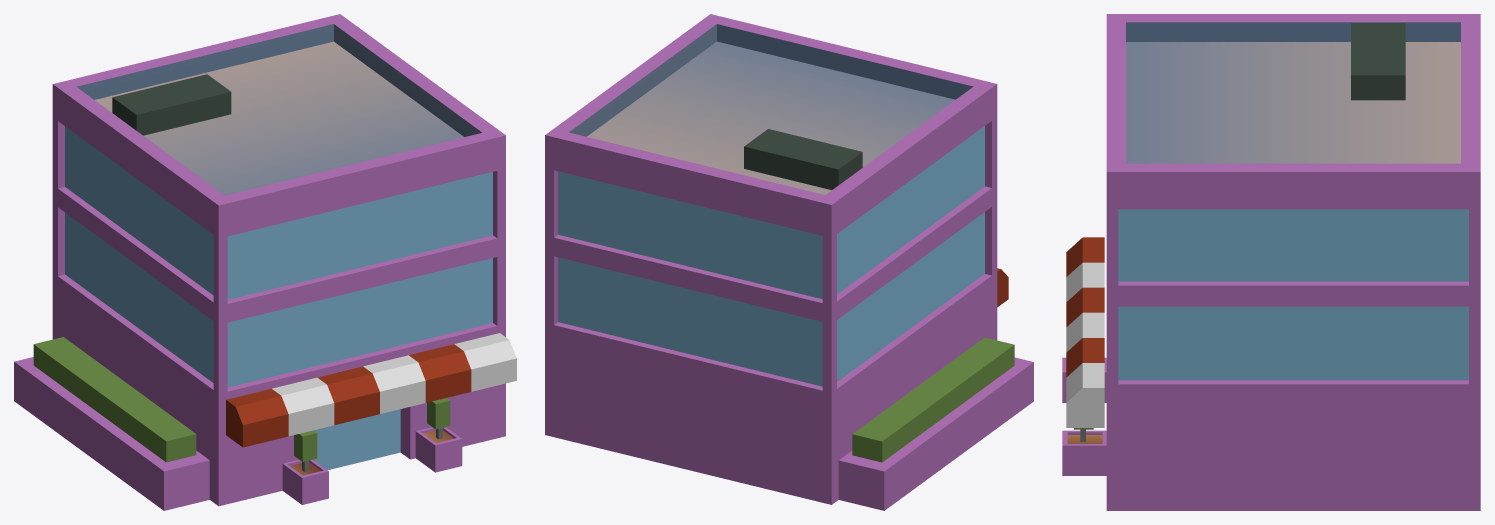
Rendered from Target_Building_8.FBX.
3 renders of one model, left to right at view 1: azimuth 30°, elevation 25°; view 2: azimuth 150°, elevation 25°; view 3: azimuth 270°, elevation 25°, orthographic. The views are drawn at different scales.
Visible parts, largest first — view 1: Object001; view 2: Object001; view 3: Object001.
Boxes of the visible parts, x1,y1,x2,y2 form: Object001: [14, 14, 516, 510]; Object001: [545, 14, 1033, 510]; Object001: [1062, 14, 1480, 510].
Bounding box in the file's own units: 232 × 203 × 224.
